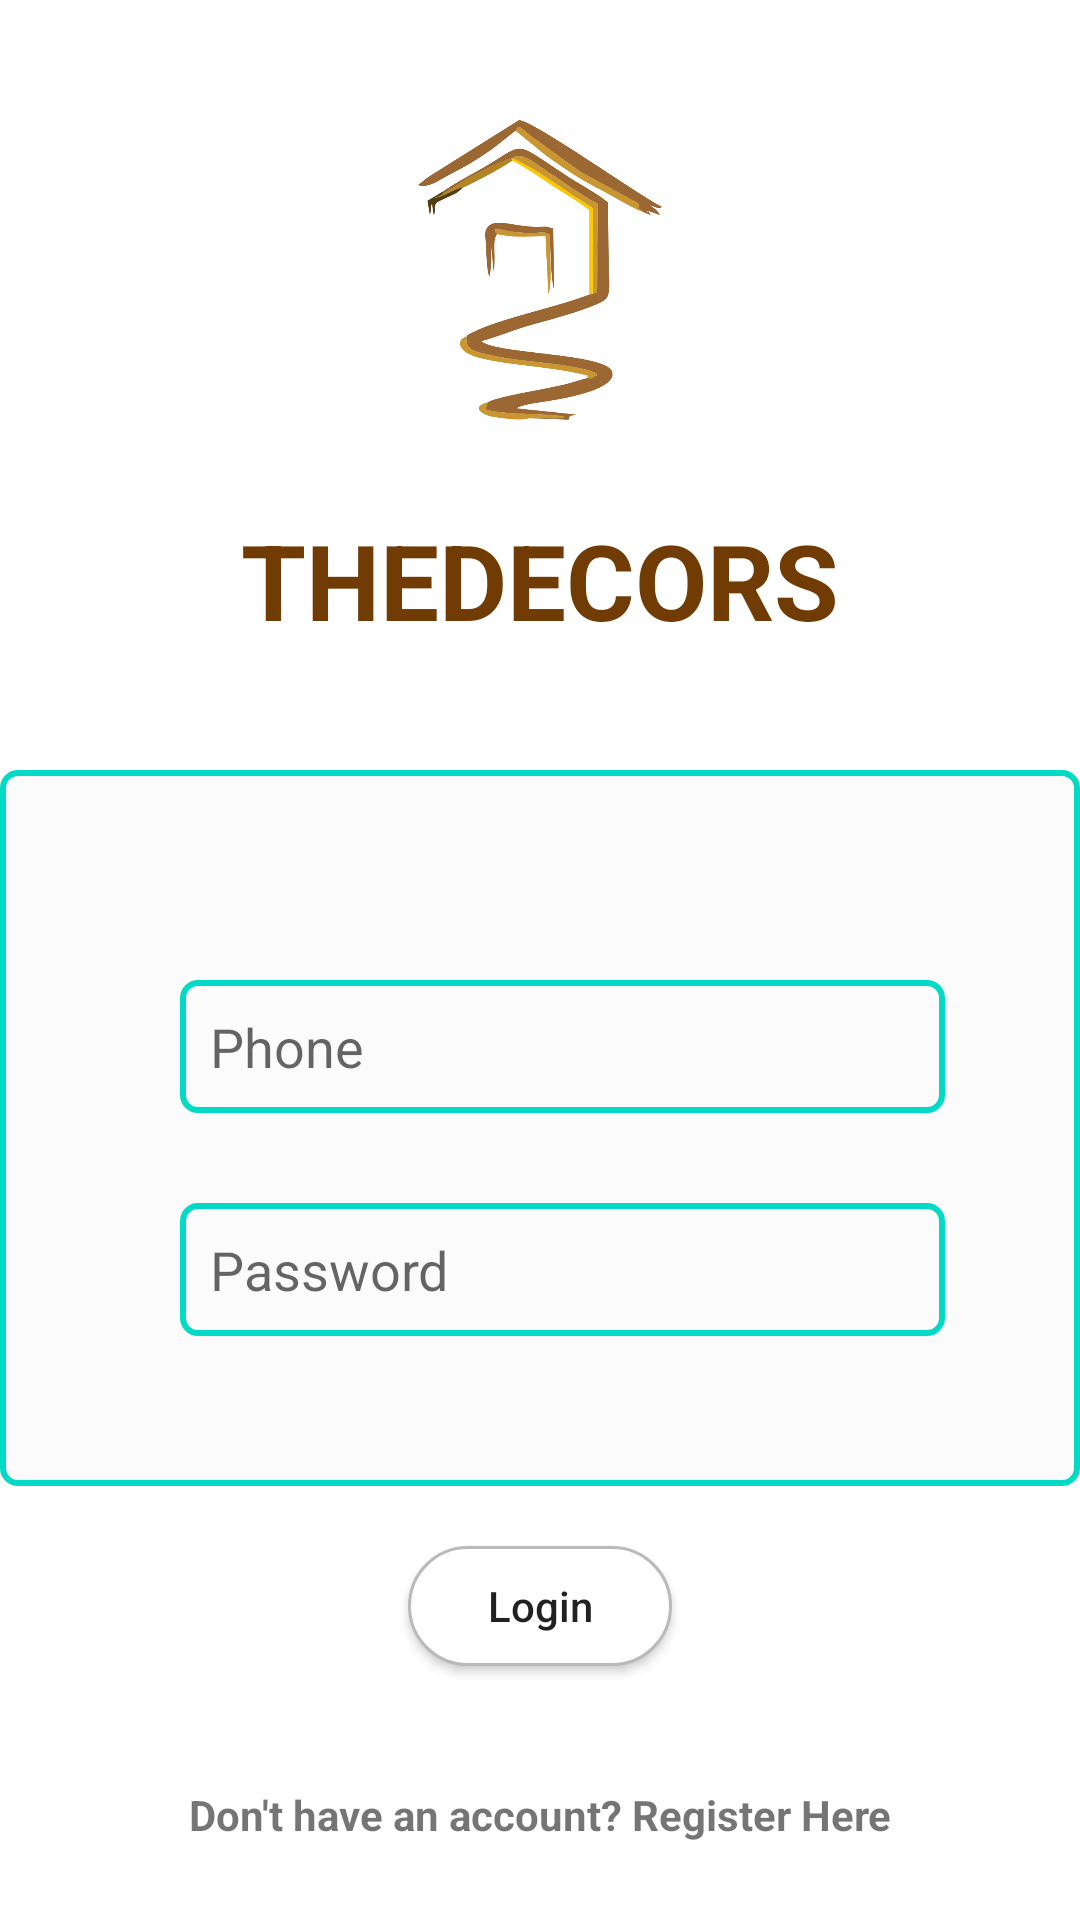

Icon click points for this 1080×1920 phone screenshot, format [x,y]:
home: [540,270]
